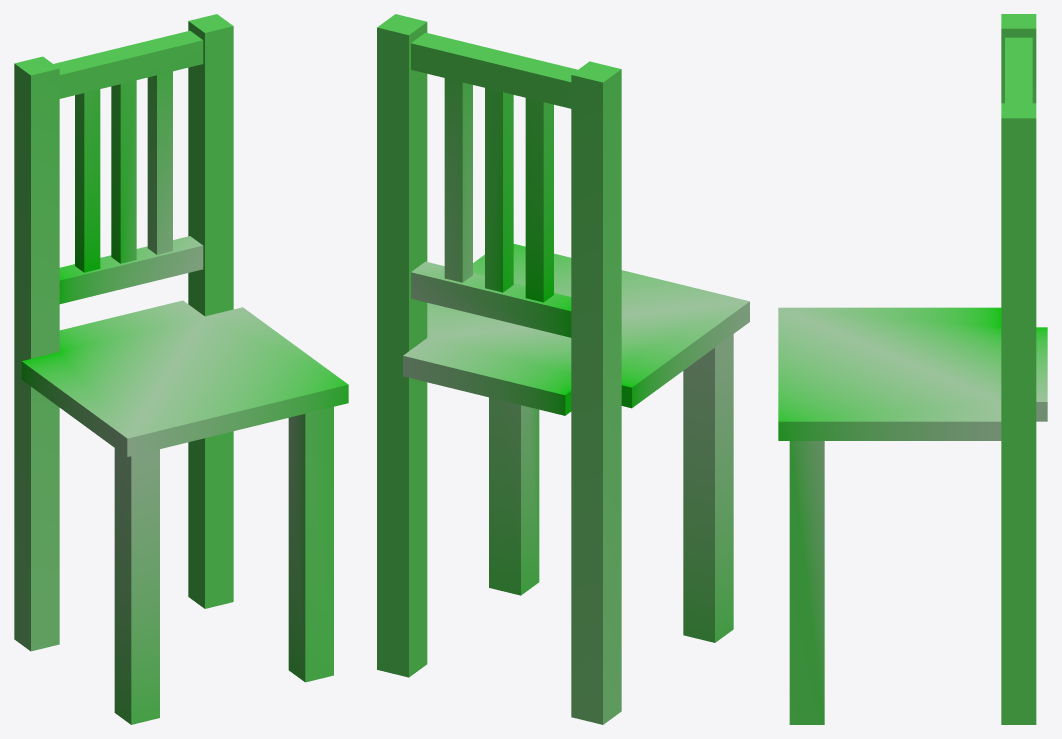
Rendered from Chair_2.fbx.
The picture shows the model from 3 angles, left to right: view 1: azimuth 30°, elevation 25°; view 2: azimuth 150°, elevation 25°; view 3: azimuth 270°, elevation 25°; orthographic projection. The views are drawn at different scales.
Visible parts, largest first — view 1: Chair_2; view 2: Chair_2; view 3: Chair_2.
Part boxes in pixels (x1=…): Chair_2: x1=14, y1=14, x2=348, y2=724; Chair_2: x1=377, y1=14, x2=749, y2=724; Chair_2: x1=778, y1=14, x2=1047, y2=724.
Bounding box in the file's own units: 0.4636 × 1.15 × 0.4636.
